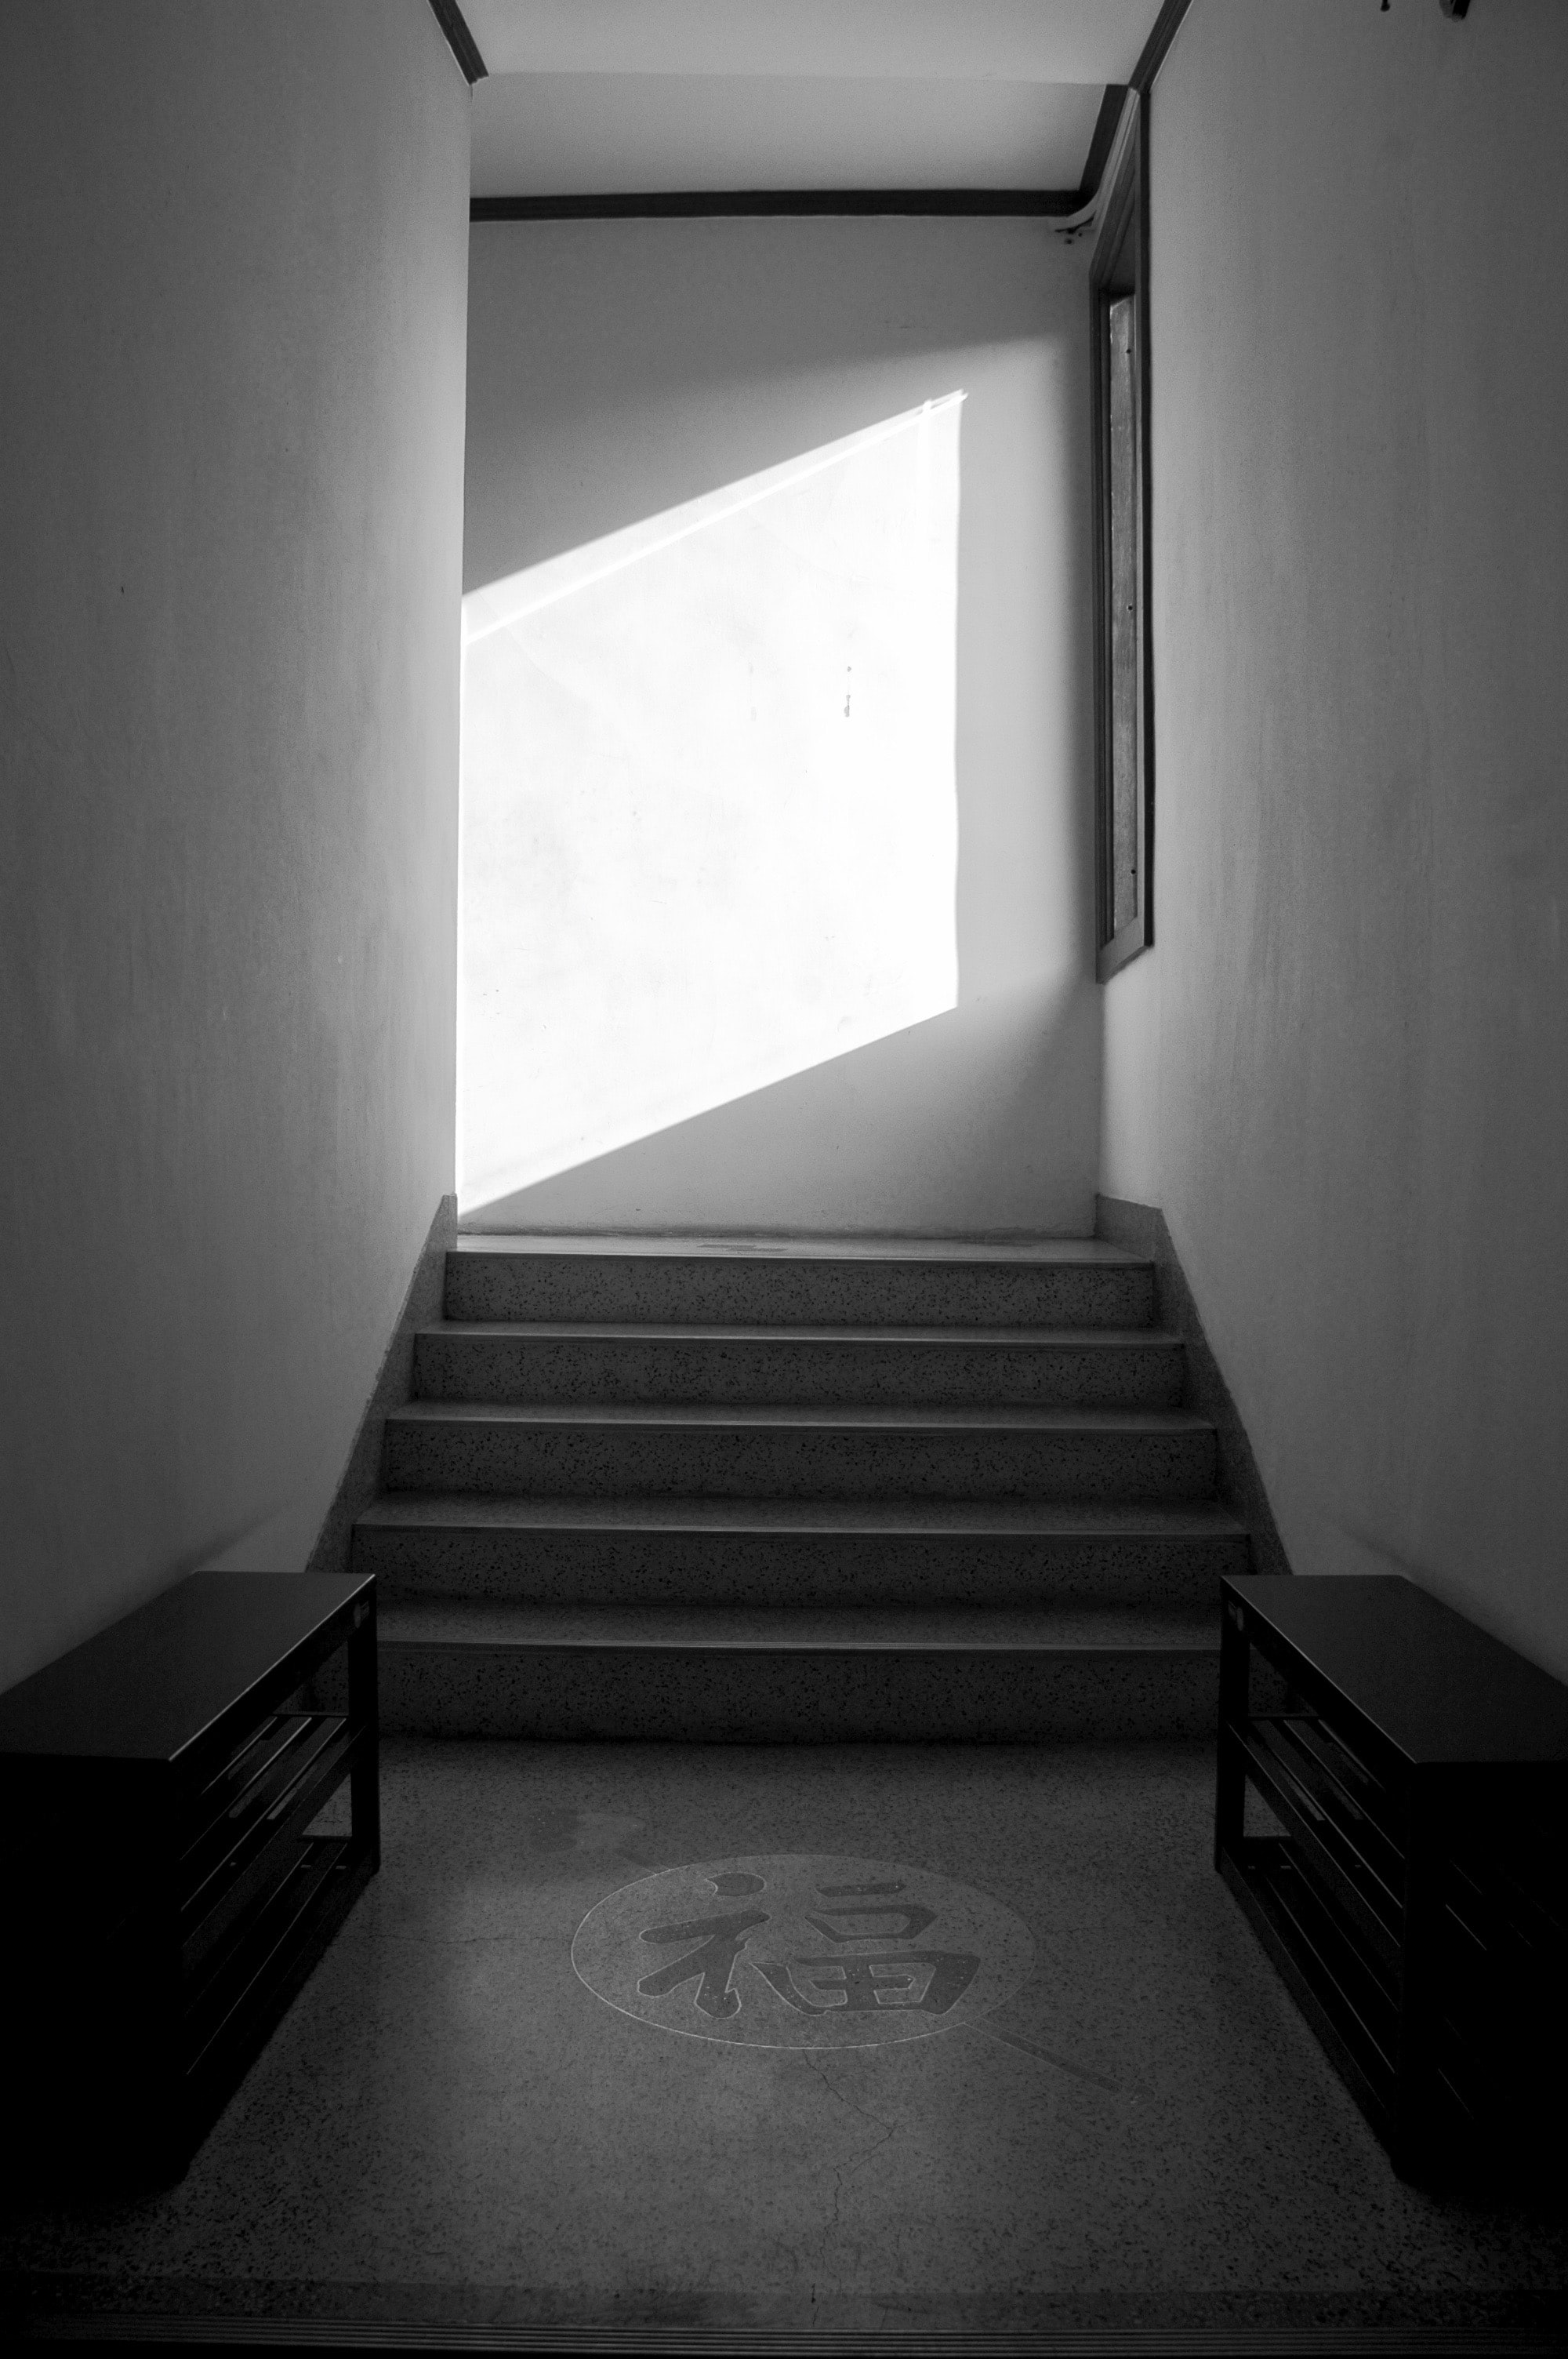upstairs: (467, 1220, 1137, 1766)
